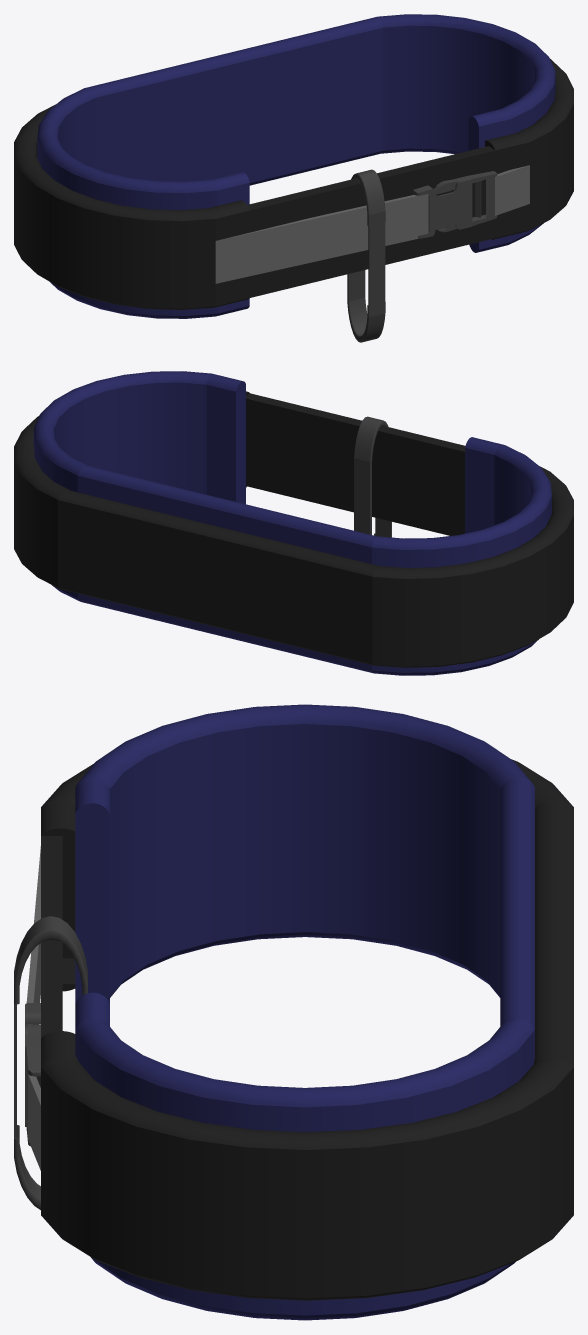
The model's file is harness.dae.
3 renders of one model, top to bottom at view 1: azimuth 30°, elevation 25°; view 2: azimuth 150°, elevation 25°; view 3: azimuth 270°, elevation 25°, orthographic. The views are drawn at different scales.
Visible parts, largest first — view 1: group_0, group_1, SketchUp (×2), group_2, Female_Buckle_Part, Male_Buckle_Part; view 2: group_1, group_0, group_2; view 3: group_0, group_1, group_2, SketchUp (×2), Female_Buckle_Part.
Boxes of the visible parts, x1,y1,x2,y2 form: group_0: (37,14,555,318); group_1: (14,59,573,309); SketchUp (×2): (215,165,529,283); group_2: (347,169,385,342); Female_Buckle_Part: (412,176,472,238); Male_Buckle_Part: (434,171,497,232); group_1: (14,391,573,667); group_0: (33,371,551,675); group_2: (354,416,391,537); group_0: (75,704,534,1320); group_1: (41,759,573,1300); group_2: (14,916,87,1209); SketchUp (×2): (26,846,40,1170); Female_Buckle_Part: (25,1003,40,1126).
Bounding box in the file's own units: 17.27 × 9.6 × 5.92.
